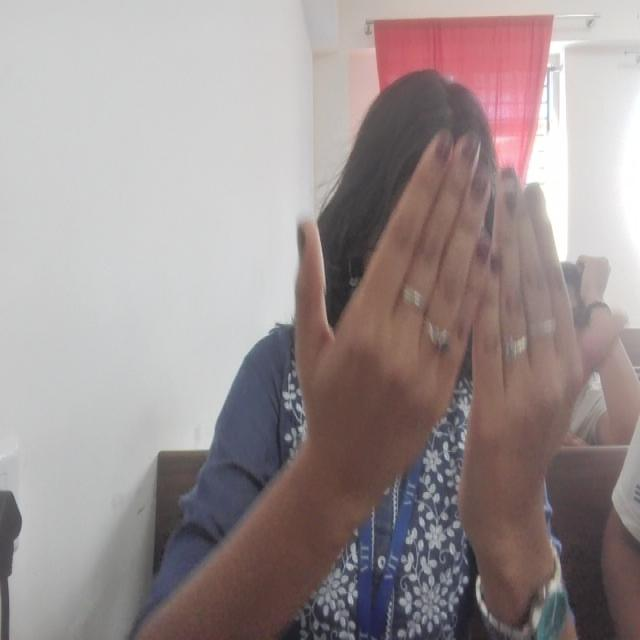thankyou: (288, 130, 630, 477)
